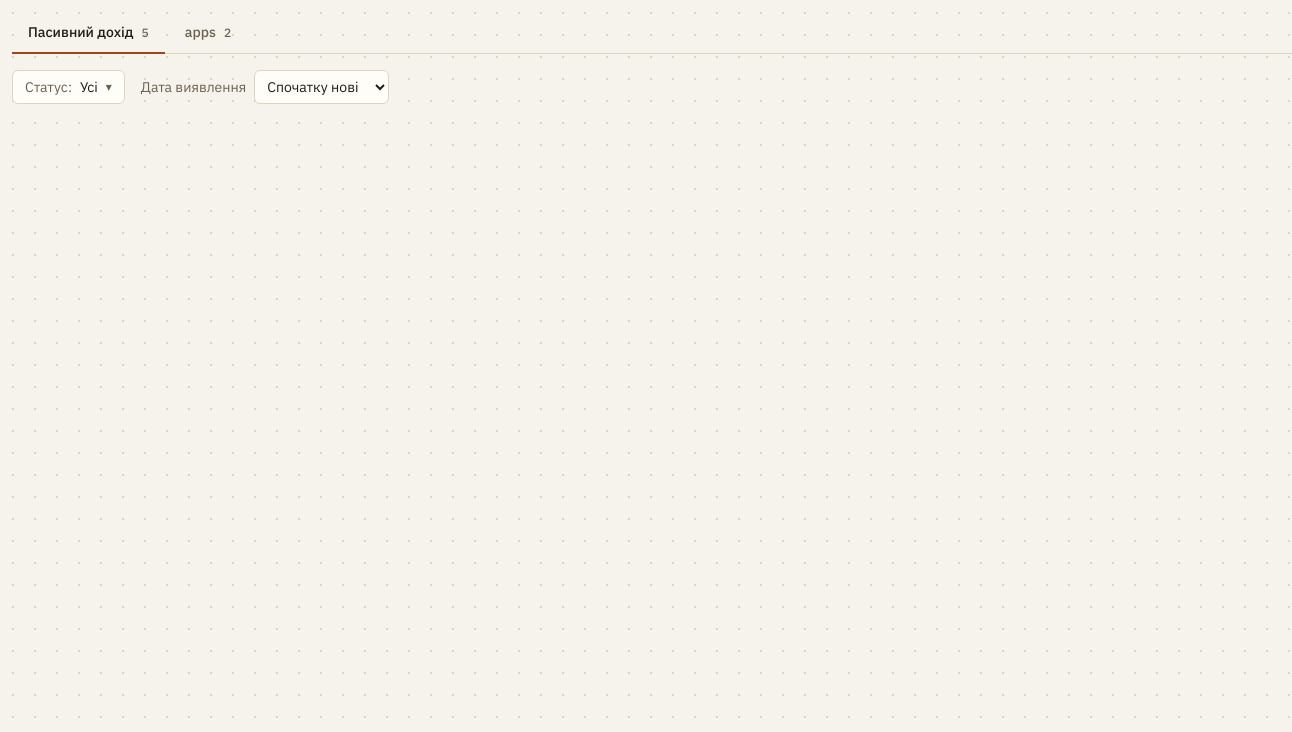
Test case: TreeFilters — випадне меню закривається кліком поза ним › mousedown поза меню закриває його
Click the button "Статус: Усі ▾". click: click(68, 87)
box: 12,70 -> 125,104
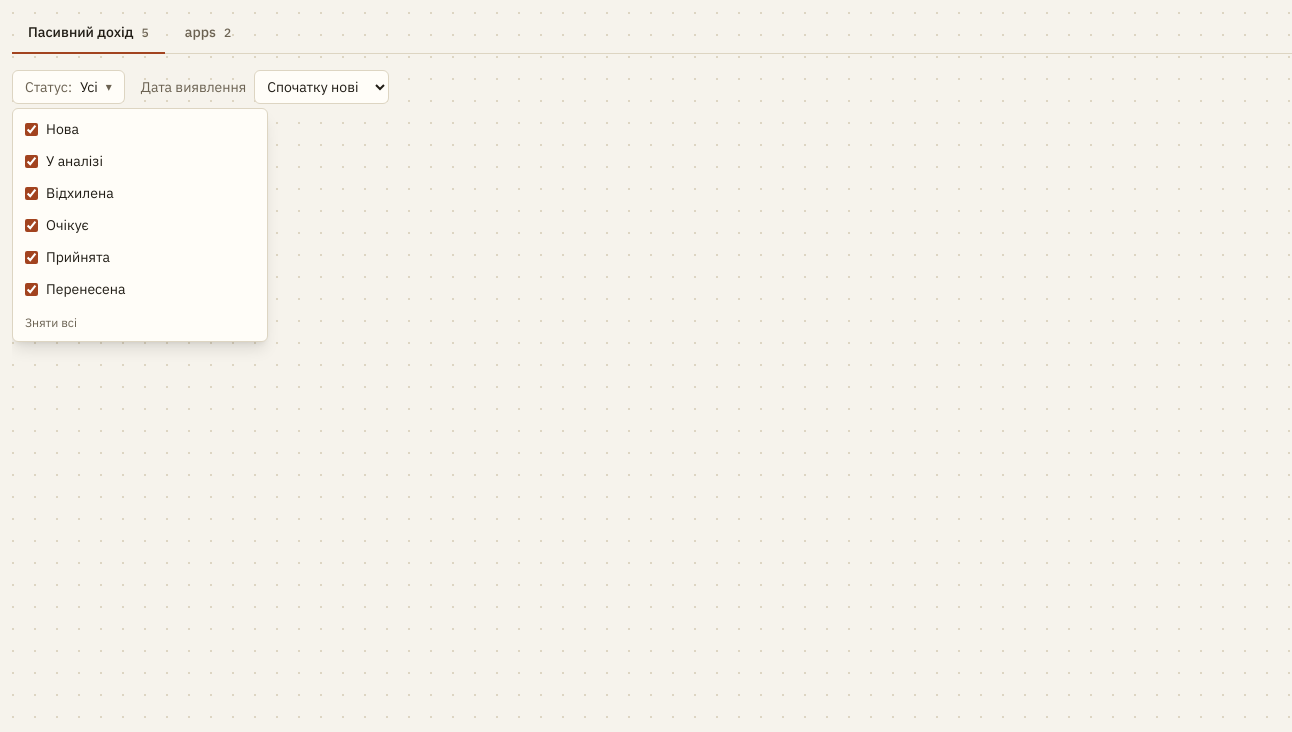
Expected: the button "Зняти всі" is shown, 17,309 -> 263,337
Press the mouse on the element that starts with "Пасивний дохід" at (652, 372), box 12,12 -> 1291,731
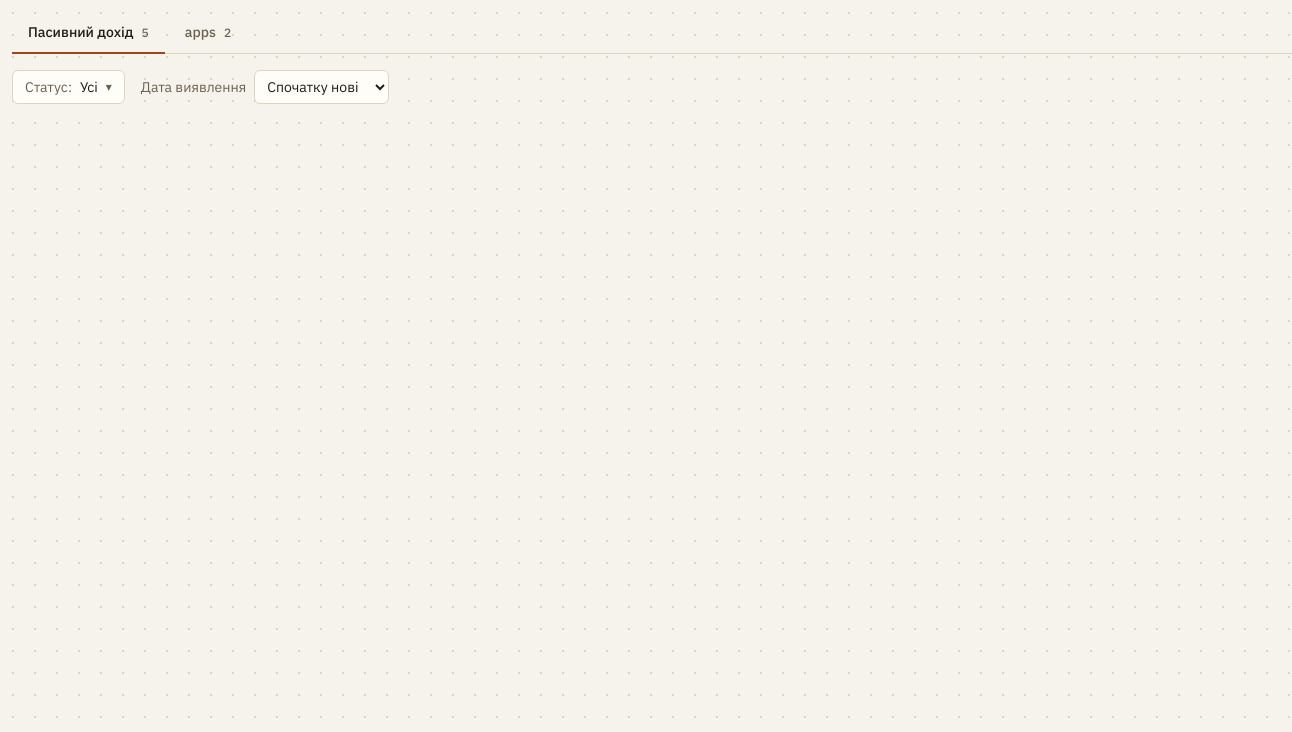
Expected: the button "Зняти всі" is gone
